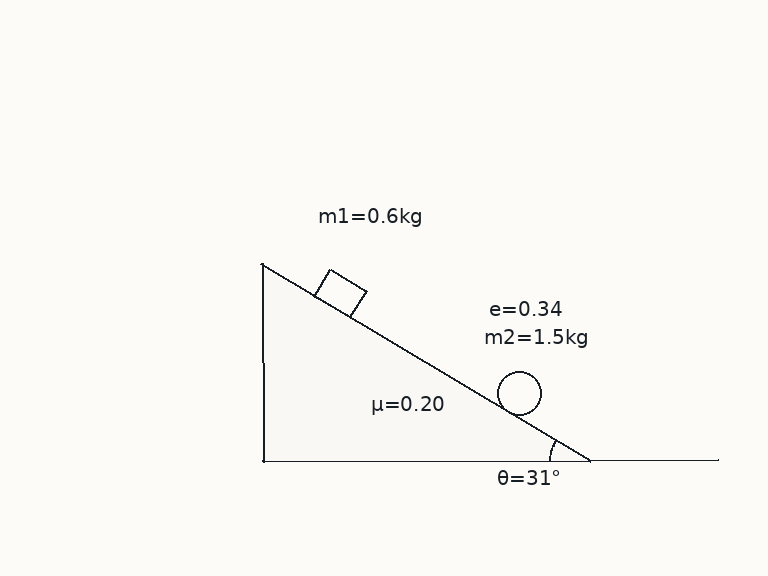ball: (495, 369, 543, 417)
block: (312, 267, 368, 319)
ramp: (261, 262, 592, 463)
